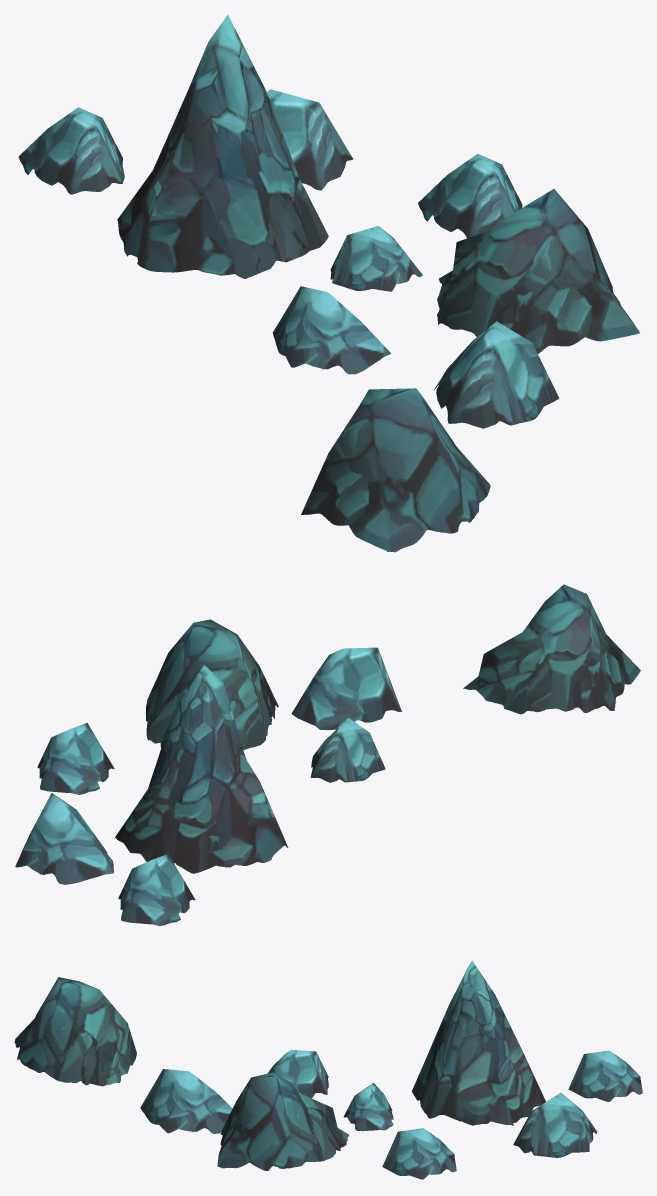
Rendered from Gimmick_dunge_Rock.fbx.
3 renders of one model, top to bottom at view 1: azimuth 30°, elevation 25°; view 2: azimuth 150°, elevation 25°; view 3: azimuth 270°, elevation 25°, orthographic. The views are drawn at different scales.
Visible parts, largest first — view 1: Dungeon_011_Object_011, Dungeon_011_Object_012, Dungeon_011_Object_012 (1), Dungeon_011_Object_013 (2), Dungeon_011_Object_013 (4), Dungeon_011_Object_013 (3), Dungeon_011_Object_013 (1), Dungeon_011_Object_013 (5), Dungeon_011_Object_013; view 2: Dungeon_011_Object_011, Dungeon_011_Object_012 (1), Dungeon_011_Object_012, Dungeon_011_Object_013 (2), Dungeon_011_Object_013 (5), Dungeon_011_Object_013 (1), Dungeon_011_Object_013 (3), Dungeon_011_Object_013 (4); view 3: Dungeon_011_Object_011, Dungeon_011_Object_012 (1), Dungeon_011_Object_012, Dungeon_011_Object_013 (2), Dungeon_011_Object_013 (5), Dungeon_011_Object_013 (1), Dungeon_011_Object_013 (3), Dungeon_011_Object_013 (4), Dungeon_011_Object_013.
Part boxes in pixels (x1=…): Dungeon_011_Object_011: x1=117, y1=15, x2=328, y2=278; Dungeon_011_Object_012: x1=437, y1=189, x2=639, y2=353; Dungeon_011_Object_012 (1): x1=301, y1=388, x2=490, y2=552; Dungeon_011_Object_013 (2): x1=434, y1=321, x2=559, y2=428; Dungeon_011_Object_013 (4): x1=272, y1=286, x2=391, y2=374; Dungeon_011_Object_013 (3): x1=18, y1=107, x2=124, y2=194; Dungeon_011_Object_013 (1): x1=418, y1=153, x2=522, y2=238; Dungeon_011_Object_013 (5): x1=267, y1=89, x2=352, y2=190; Dungeon_011_Object_013: x1=330, y1=226, x2=422, y2=291; Dungeon_011_Object_011: x1=114, y1=665, x2=288, y2=873; Dungeon_011_Object_012 (1): x1=463, y1=584, x2=640, y2=714; Dungeon_011_Object_012: x1=145, y1=619, x2=278, y2=749; Dungeon_011_Object_013 (2): x1=291, y1=647, x2=401, y2=730; Dungeon_011_Object_013 (5): x1=15, y1=793, x2=113, y2=884; Dungeon_011_Object_013 (1): x1=37, y1=722, x2=114, y2=794; Dungeon_011_Object_013 (3): x1=118, y1=854, x2=195, y2=926; Dungeon_011_Object_013 (4): x1=310, y1=717, x2=385, y2=782; Dungeon_011_Object_011: x1=412, y1=960, x2=545, y2=1125; Dungeon_011_Object_012 (1): x1=14, y1=977, x2=136, y2=1086; Dungeon_011_Object_012: x1=217, y1=1072, x2=348, y2=1170; Dungeon_011_Object_013 (2): x1=140, y1=1069, x2=232, y2=1133; Dungeon_011_Object_013 (5): x1=513, y1=1092, x2=597, y2=1157; Dungeon_011_Object_013 (1): x1=382, y1=1128, x2=456, y2=1179; Dungeon_011_Object_013 (3): x1=568, y1=1050, x2=642, y2=1101; Dungeon_011_Object_013 (4): x1=268, y1=1049, x2=328, y2=1098; Dungeon_011_Object_013: x1=343, y1=1083, x2=393, y2=1131.
Bounding box in the file's own units: 2.98 × 1.37 × 5.31.
